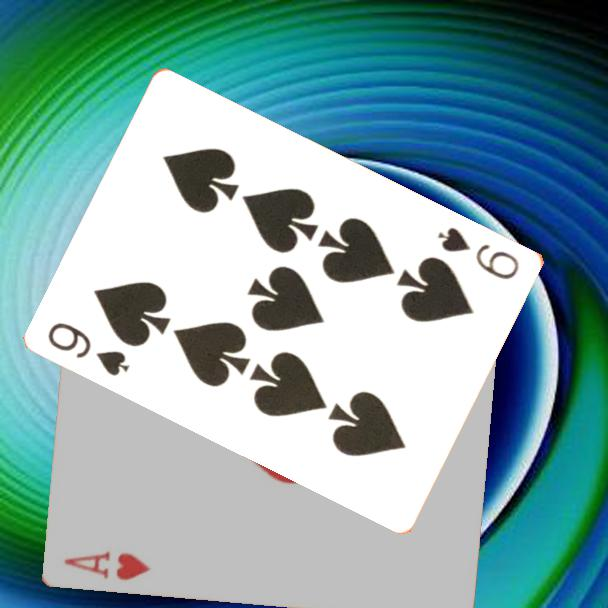h01: (60, 548, 153, 584)
s09: (44, 318, 134, 379), (435, 223, 523, 283)
